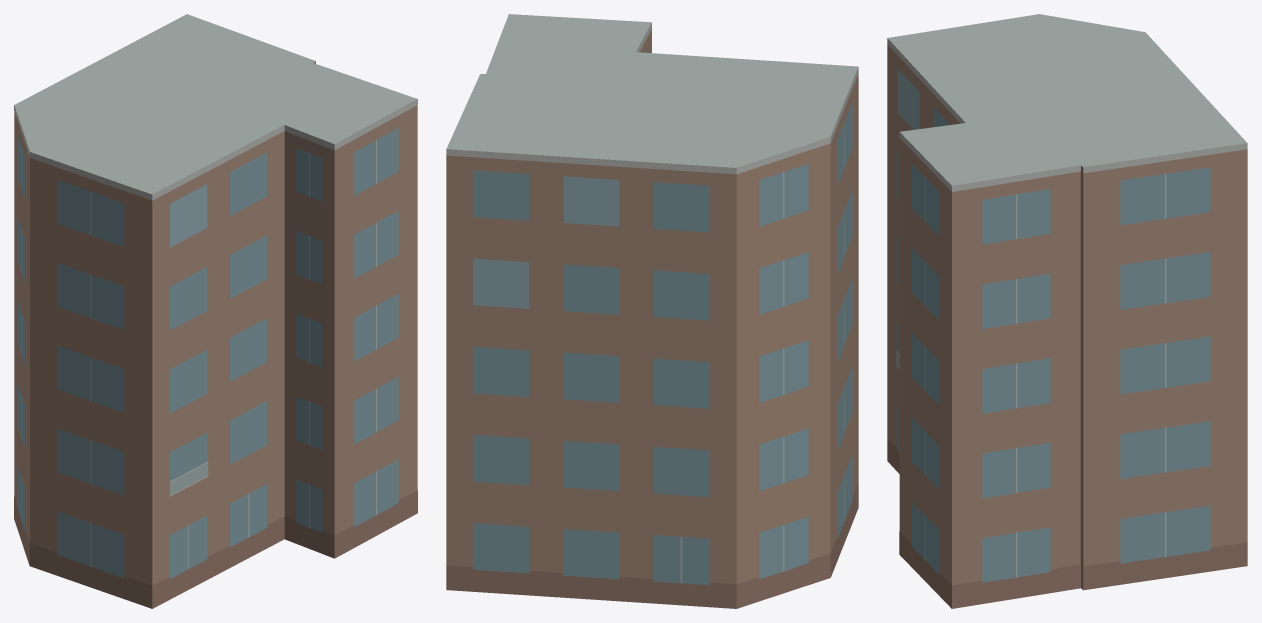
The model's file is survey-upis-32863660.glb.
3 views of the same model, side by side, from view 1: azimuth 30°, elevation 25°; view 2: azimuth 150°, elevation 25°; view 3: azimuth 270°, elevation 25° (orthographic). The views are drawn at different scales.
Parts seen in each view (by area): view 1: survey-upis-32863660.tmp; view 2: survey-upis-32863660.tmp; view 3: survey-upis-32863660.tmp.
Part boxes in pixels (x1=…): survey-upis-32863660.tmp: x1=14, y1=14, x2=417, y2=608; survey-upis-32863660.tmp: x1=446, y1=14, x2=858, y2=608; survey-upis-32863660.tmp: x1=887, y1=14, x2=1247, y2=608.
Size of the model in its own units: 14.62 by 16.76 by 12.95.
